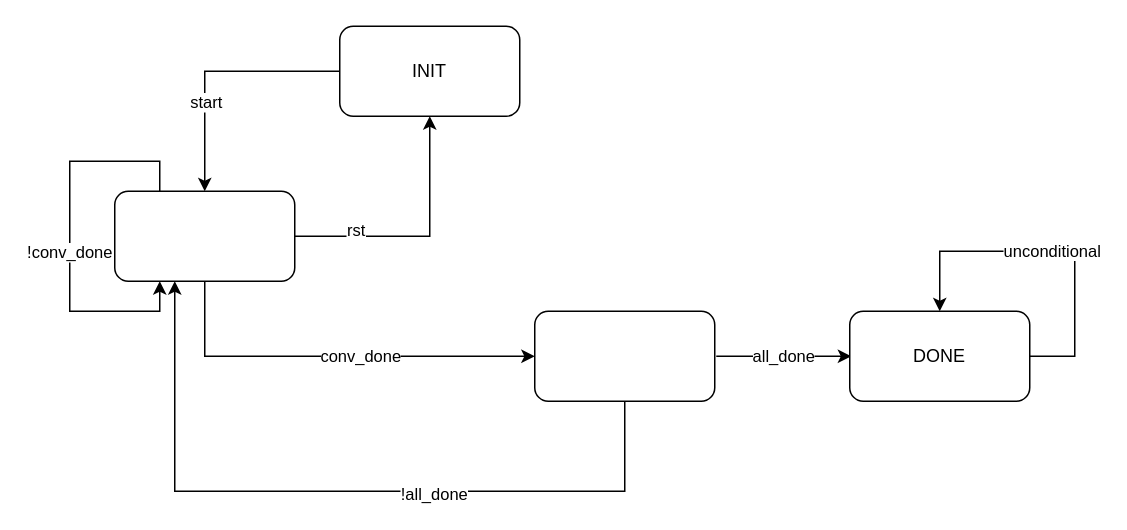
Image size: 1127x530. Some labels were removed from this diagram. The box of each missing label's shape, as (x1, y1, x2, y2) in pixels:
PROCESSING: (113, 190, 295, 281)
UPDATING: (533, 310, 715, 401)
